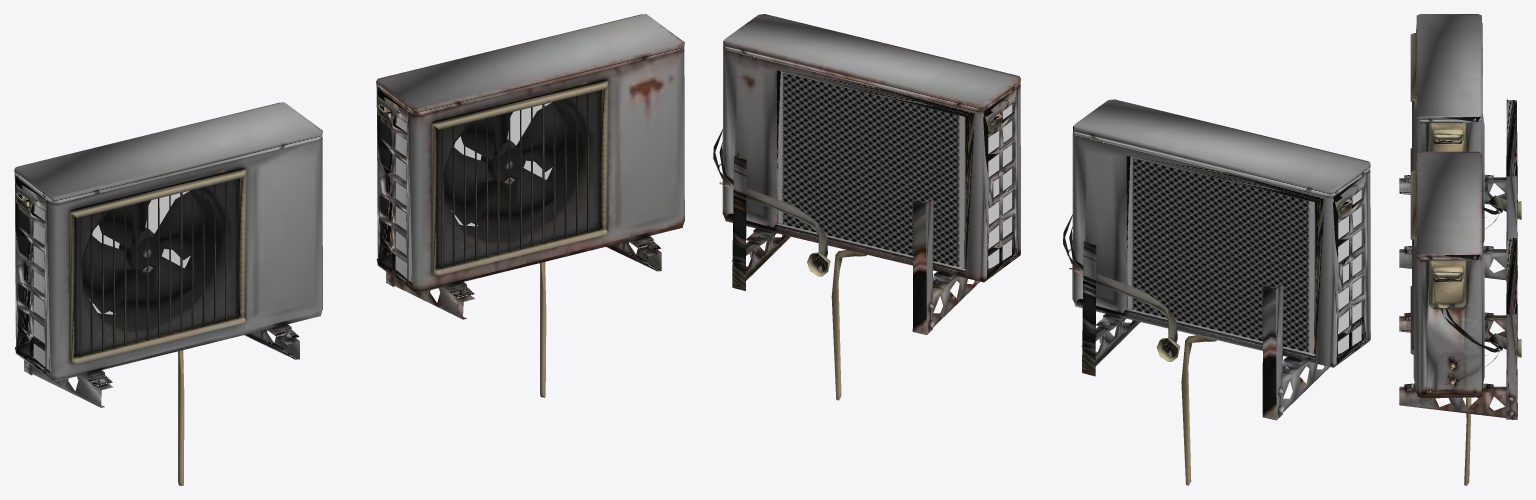
The model's file is exterior_aircon_unit.glb.
3 views of the same model, side by side, from view 1: azimuth 30°, elevation 25°; view 2: azimuth 150°, elevation 25°; view 3: azimuth 270°, elevation 25° (orthographic). The views are drawn at different scales.
Parts seen in each view (by area): view 1: exterior_aircon_unit_rusted, exterior_aircon_unit; view 2: exterior_aircon_unit, exterior_aircon_unit_rusted; view 3: exterior_aircon_unit_rusted, exterior_aircon_unit.
Part boxes in pixels (x1,y1,x2,y2): exterior_aircon_unit_rusted: (376,14,684,397); exterior_aircon_unit: (14,102,322,485); exterior_aircon_unit: (1063,99,1370,485); exterior_aircon_unit_rusted: (713,14,1020,400); exterior_aircon_unit_rusted: (1399,151,1521,485); exterior_aircon_unit: (1399,14,1521,281).
Bounding box in the file's own units: 1.8 × 0.9276 × 0.3742.
Materials: 4 (4 with a texture image).
